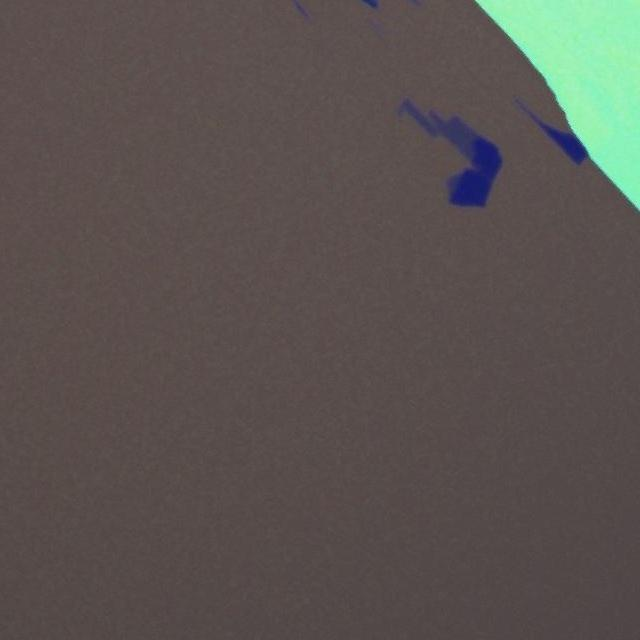monolayer-eWW4: (408, 104, 475, 158)
